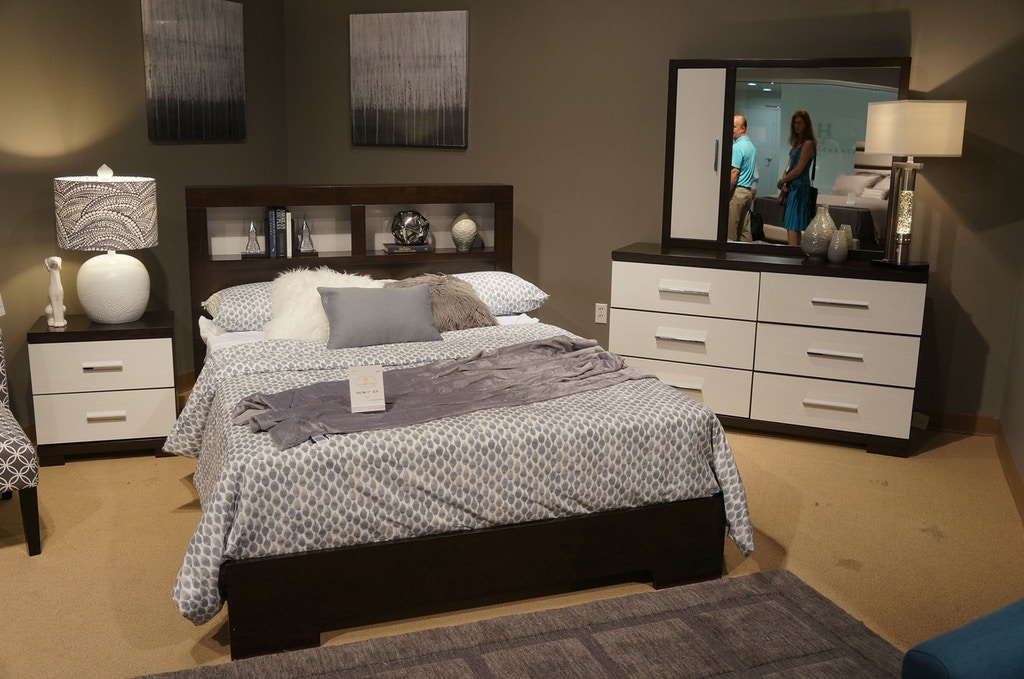bed: (186, 184, 723, 657)
dresser: (606, 243, 927, 458)
lamp: (862, 101, 967, 275), (52, 169, 161, 328)
night stand: (26, 311, 179, 466)
